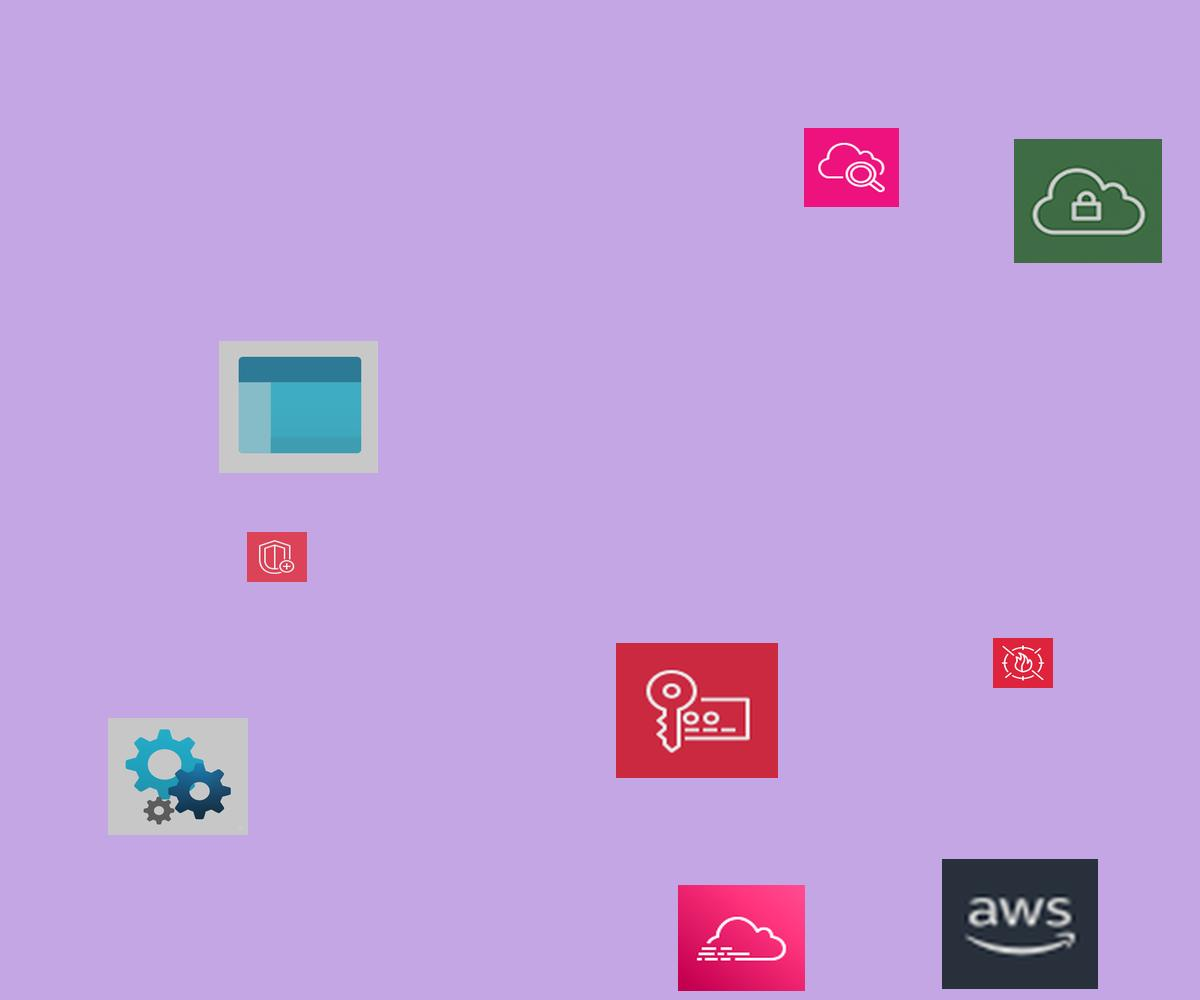AWS-Cloud-logo: (942, 859, 1098, 989)
AWS-CloudTrail: (678, 885, 805, 991)
AWS-CloudWatch: (804, 128, 899, 207)
AWS-Key-Management-Service: (616, 643, 778, 778)
AWS-Private_vpc: (1014, 139, 1162, 263)
AWS-Shield: (247, 532, 307, 582)
AWS-WAF: (993, 638, 1053, 688)
Azure_api: (108, 718, 248, 835)
Azure_management-portal: (219, 341, 378, 473)
